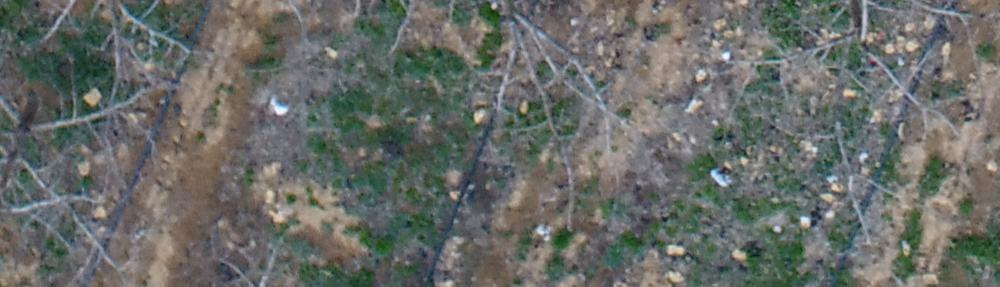apple: (304, 10, 637, 234), (10, 31, 176, 277), (681, 10, 990, 137)
